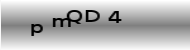4: (107, 10, 122, 24)
D: (85, 8, 101, 22)
Q: (66, 8, 82, 24)
m: (51, 17, 71, 28)
p: (30, 22, 44, 37)
